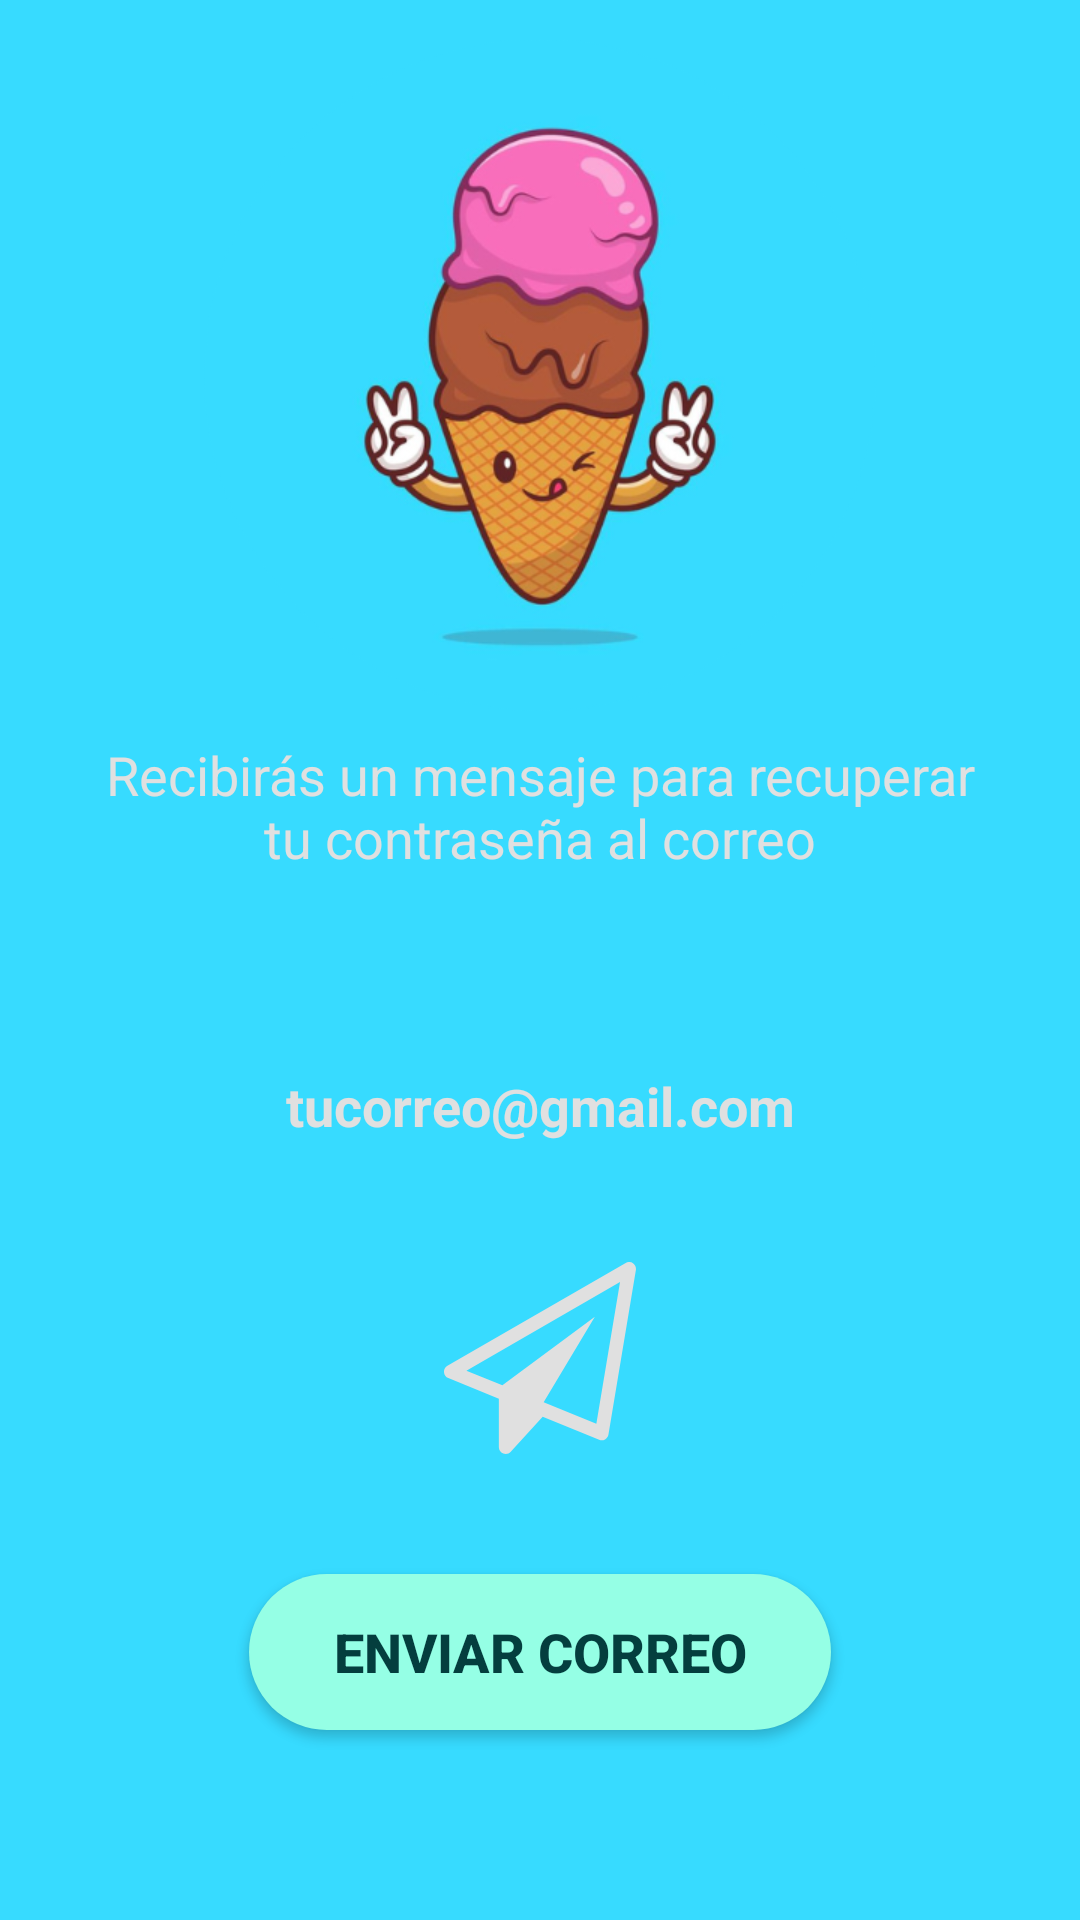

Icon click points for this 1080 × 1920 phone screenshot, format [x,y]:
paperplane: [540,1358]
